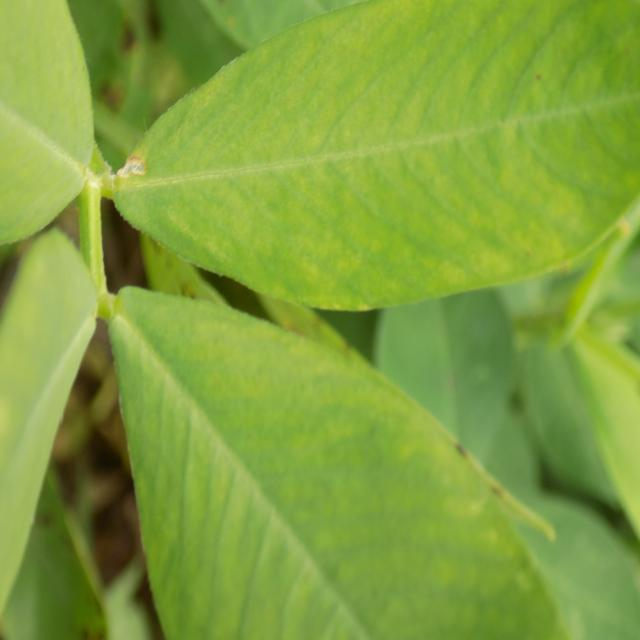Ground nut_healthy: (99, 0, 640, 307), (110, 287, 571, 640)
